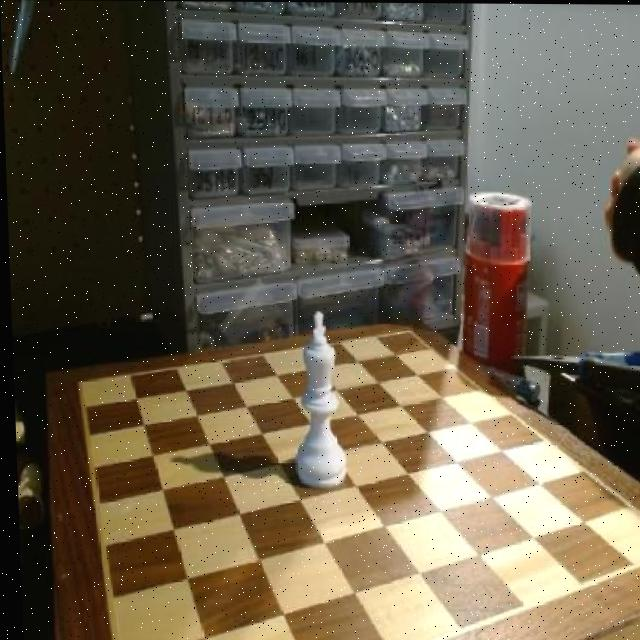white-bishop: (290, 309, 347, 491)
